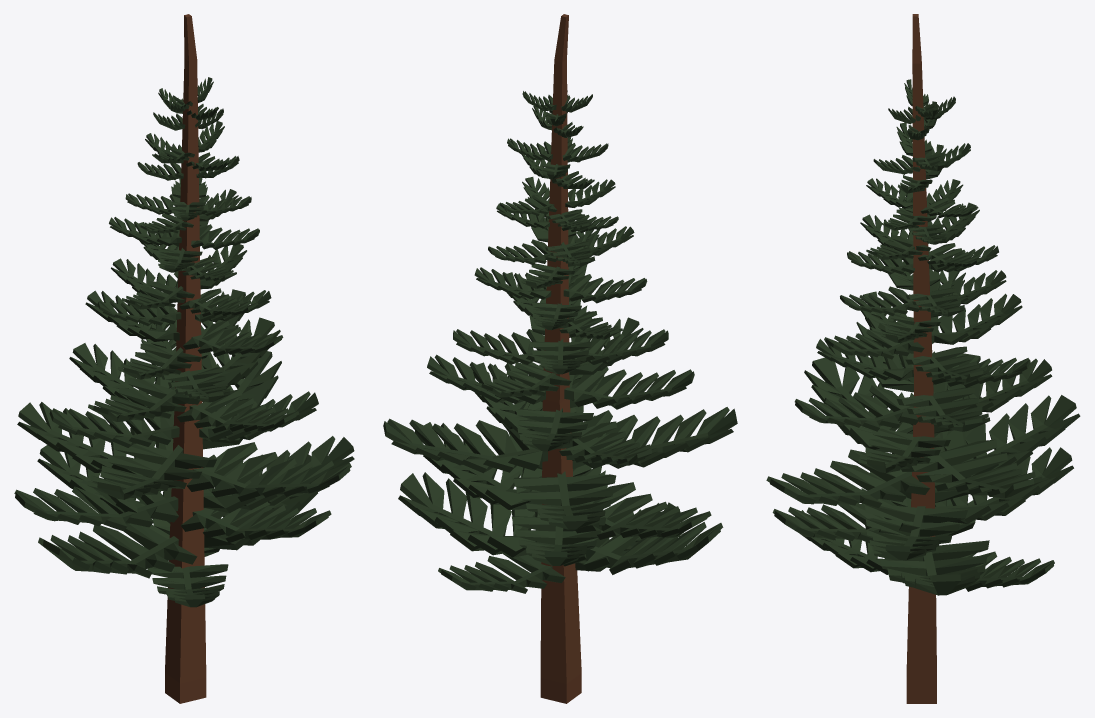
File: Kuusi.fbx
3 renders of one model, left to right at view 1: azimuth 30°, elevation 25°; view 2: azimuth 150°, elevation 25°; view 3: azimuth 270°, elevation 25°, orthographic.
Parts seen in each view (by area): view 1: Cube.003; view 2: Cube.003; view 3: Cube.003.
Part boxes in pixels (x1=…): Cube.003: x1=14, y1=14, x2=354, y2=703; Cube.003: x1=383, y1=14, x2=737, y2=703; Cube.003: x1=766, y1=14, x2=1080, y2=703.
Size of the model in its own units: 612 by 1294 by 540.
